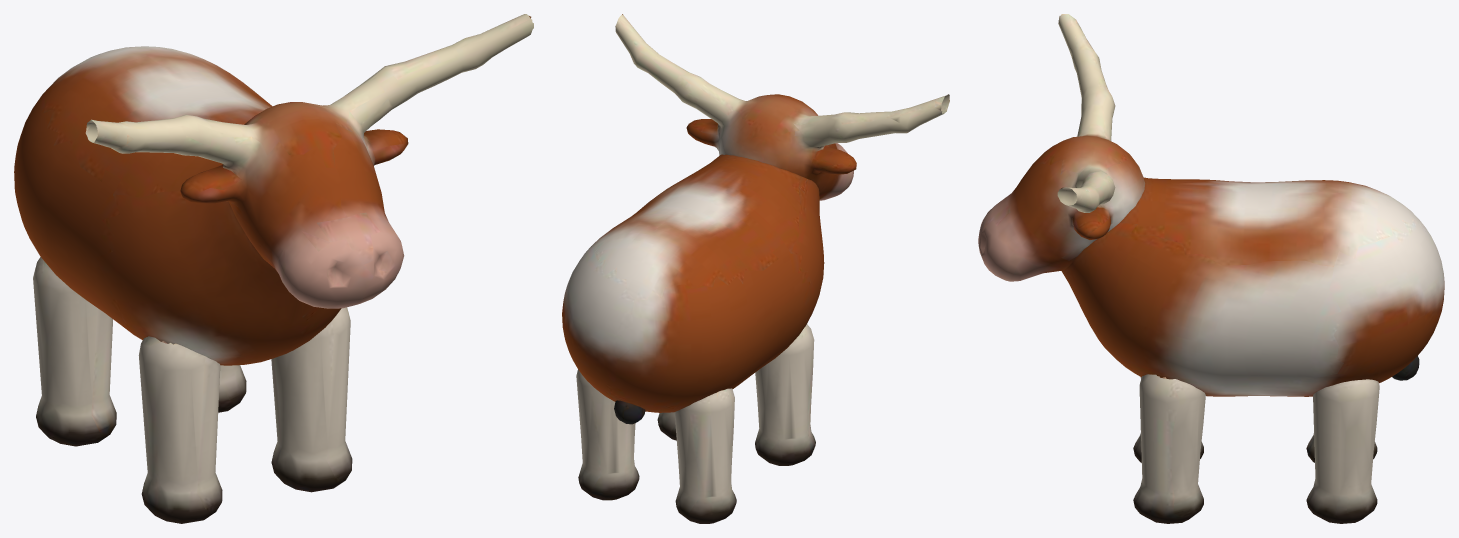
Rendered from animal_texas_longhorn.glb.
3 views of the same model, side by side, from view 1: azimuth 30°, elevation 25°; view 2: azimuth 150°, elevation 25°; view 3: azimuth 270°, elevation 25° (orthographic). The views are drawn at different scales.
Parts seen in each view (by area): view 1: animal_texas_longhorn, head, leg0, leg2, leg1, leg3; view 2: animal_texas_longhorn, head, leg2, leg0, leg3, tail; view 3: animal_texas_longhorn, head, leg1, leg3.
Boxes of the visible parts, x1,y1,x2,y2 form: animal_texas_longhorn: (14, 46, 341, 365); head: (85, 14, 533, 308); leg0: (138, 336, 222, 523); leg2: (33, 257, 116, 446); leg1: (271, 307, 352, 492); leg3: (218, 365, 246, 412); animal_texas_longhorn: (562, 154, 824, 412); head: (615, 14, 949, 200); leg2: (674, 388, 736, 523); leg0: (755, 324, 815, 465); leg3: (576, 369, 639, 500); tail: (614, 400, 645, 424); animal_texas_longhorn: (1061, 177, 1444, 396); head: (978, 14, 1145, 281); leg1: (1133, 374, 1205, 523); leg3: (1306, 379, 1379, 523).
Size of the model in its own units: 0.5719 by 0.603 by 0.6467.
1 material, 1 textured.
